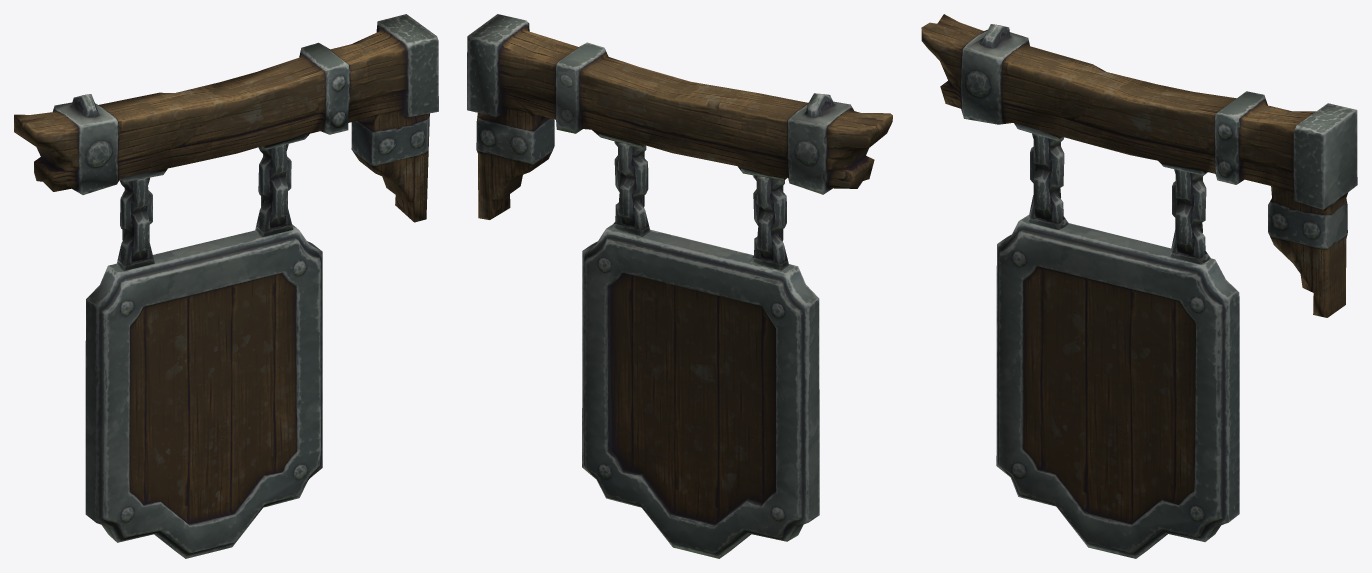
File: S_MVillage_Signs_01_C.fbx
3 views of the same model, side by side, from view 1: azimuth 30°, elevation 25°; view 2: azimuth 150°, elevation 25°; view 3: azimuth 330°, elevation 25° (orthographic). The views are drawn at different scales.
Parts seen in each view (by area): view 1: S_MVillage_Signs_01_C_LOD0; view 2: S_MVillage_Signs_01_C_LOD0; view 3: S_MVillage_Signs_01_C_LOD0.
Part boxes in pixels (box(x1,y1,x2,y2)): S_MVillage_Signs_01_C_LOD0: box(14, 14, 438, 558); S_MVillage_Signs_01_C_LOD0: box(467, 14, 892, 558); S_MVillage_Signs_01_C_LOD0: box(921, 14, 1357, 558).
Size of what is drawn, in the model's own units: 187 by 216 by 29.43.
